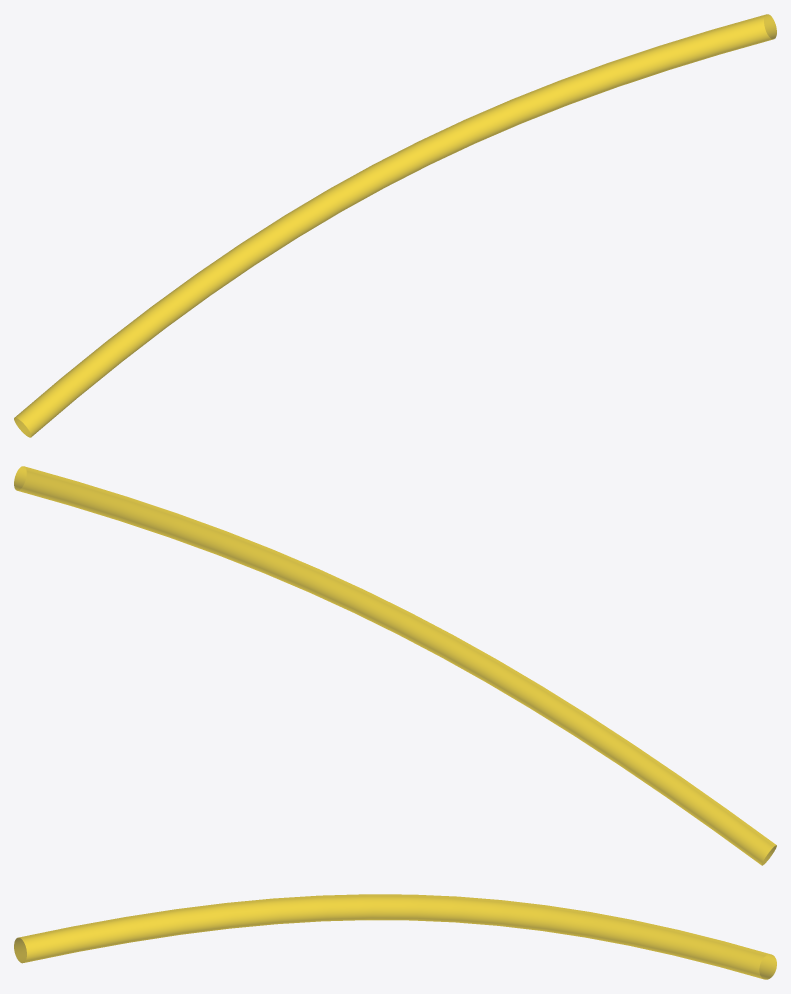
The model's file is Event_100608114_track_35.fbx.
3 renders of one model, top to bottom at view 1: azimuth 90°, elevation 25°; view 2: azimuth 210°, elevation 25°; view 3: azimuth 270°, elevation 25°, orthographic. The views are drawn at different scales.
Visible parts, largest first — view 1: Model; view 2: Model; view 3: Model.
Boxes of the visible parts, bbox=[...] form: Model: bbox=[14, 14, 776, 437]; Model: bbox=[14, 466, 776, 865]; Model: bbox=[14, 894, 776, 979].
Bounding box in the file's own units: 0.7314 × 0.3908 × 1.17.
